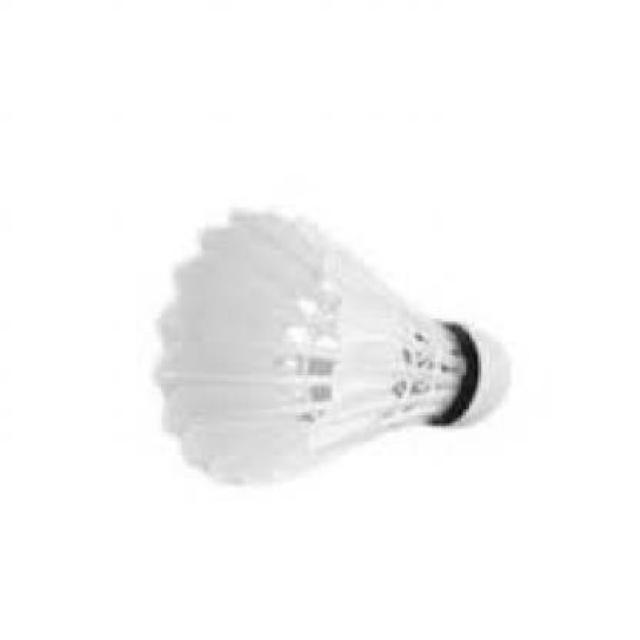Shuttlecock: (152, 206, 511, 488)
